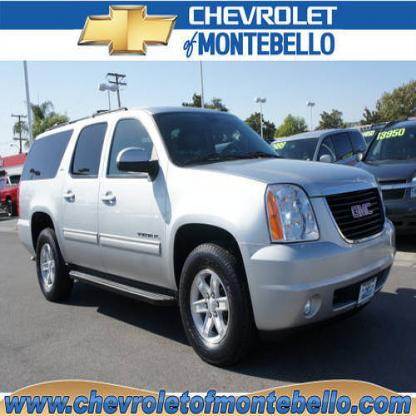Vehicle: (12, 105, 402, 374)
